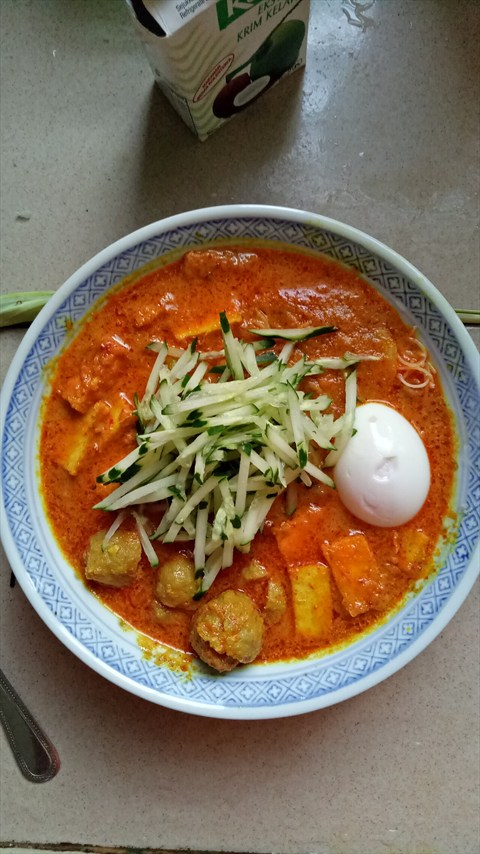Telur Balado: (46, 248, 425, 713)
